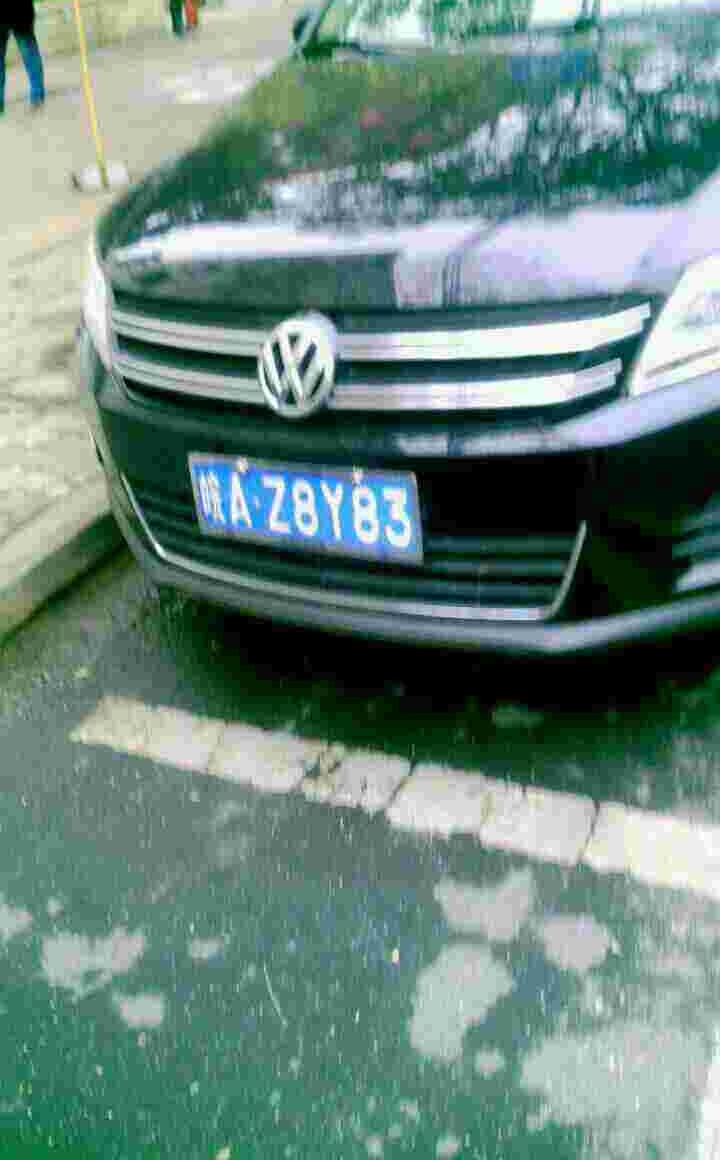plate: (184, 449, 425, 565)
